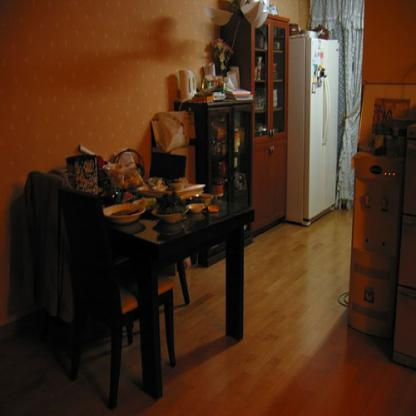chair: (59, 183, 178, 408), (147, 151, 191, 305)
diningtable: (102, 186, 255, 403)
